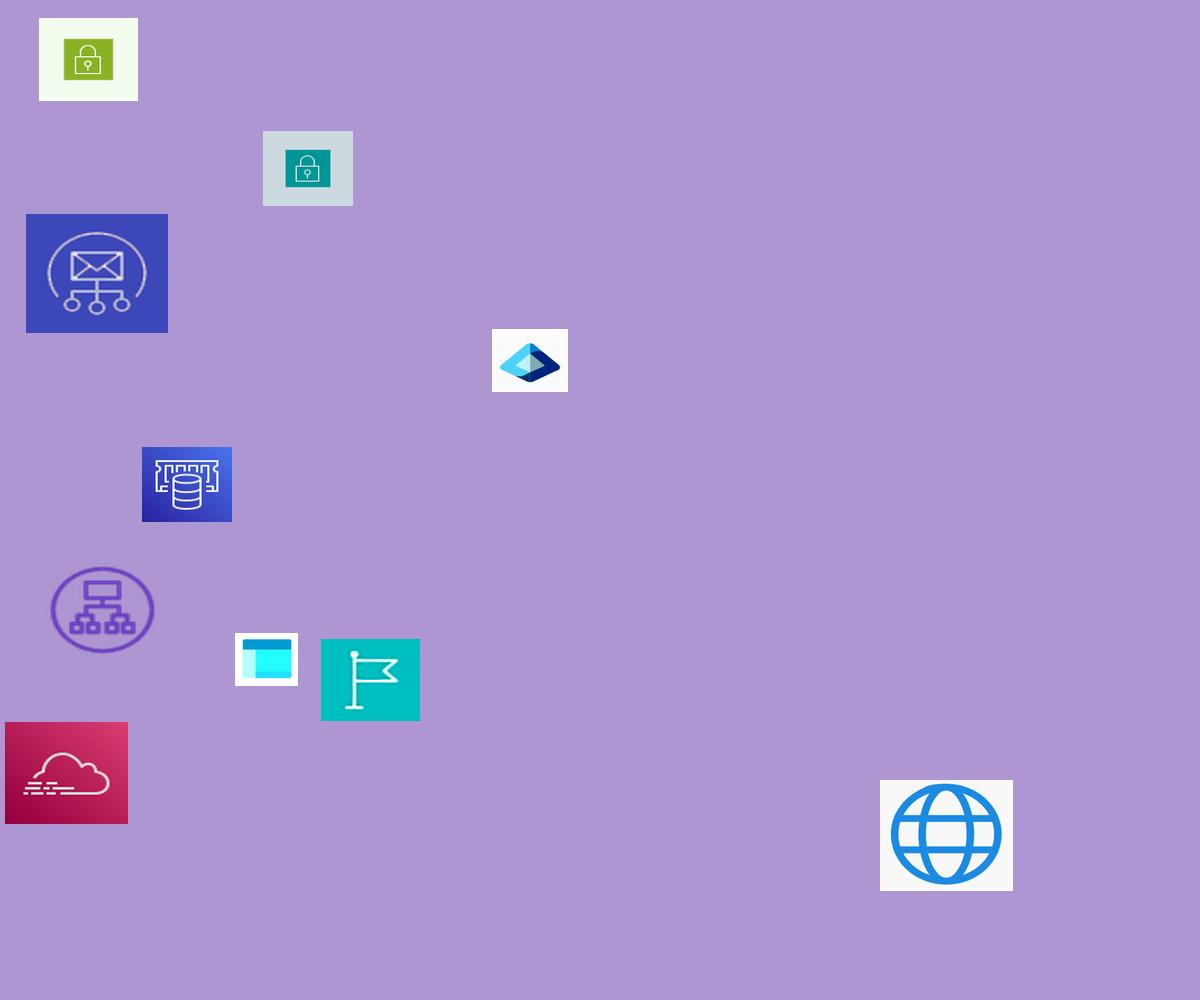AWS-CloudTrail: (5, 722, 128, 824)
AWS-ElastiCache: (142, 447, 232, 522)
AWS-Private-subnet: (263, 131, 353, 206)
AWS-Public-subnet: (39, 18, 138, 101)
AWS-Region: (321, 639, 420, 721)
AWS-Res_Elastic-Load-Balancing_Application-Load-Balancer: (46, 563, 159, 657)
AWS-Simple-Email-Service: (26, 214, 168, 333)
Azure_http: (880, 780, 1013, 891)
Azure_management-portal: (235, 633, 298, 686)
Azure_microsoft_entra: (492, 329, 568, 392)
